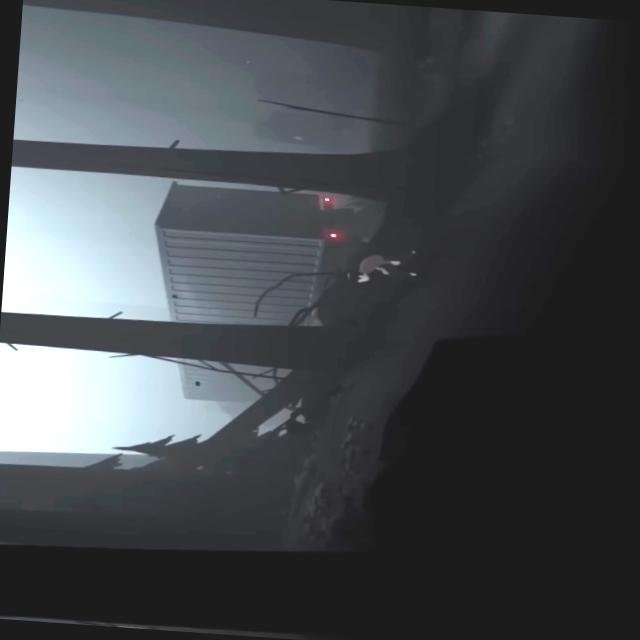boy: (344, 244, 420, 285)
